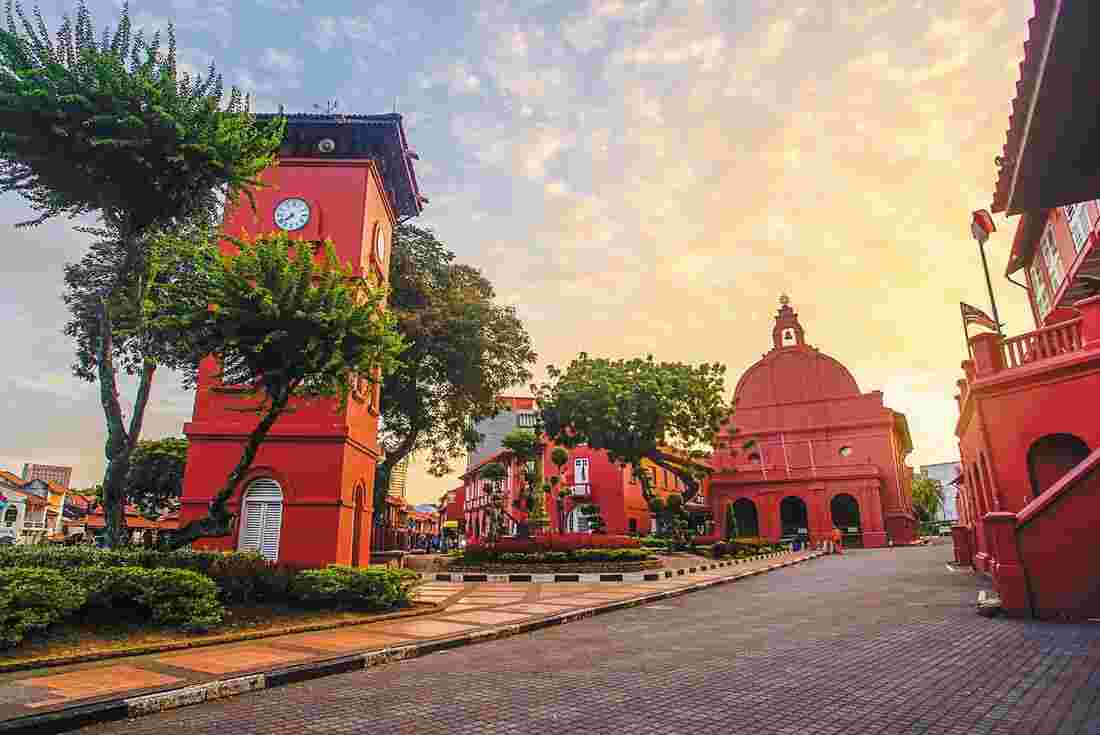Church: (180, 116, 912, 570)
